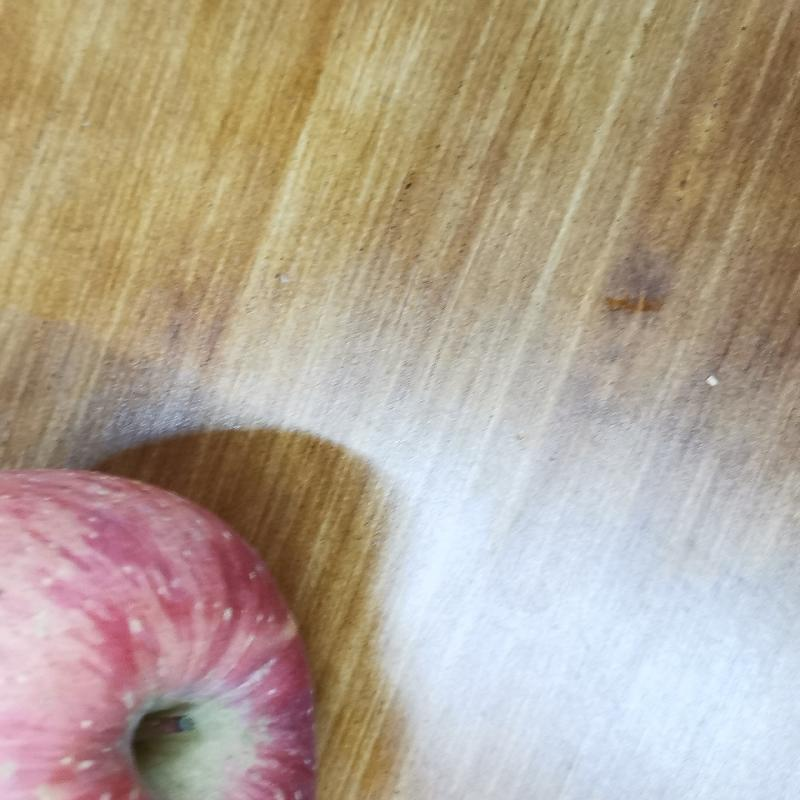apples: (0, 446, 319, 800)
